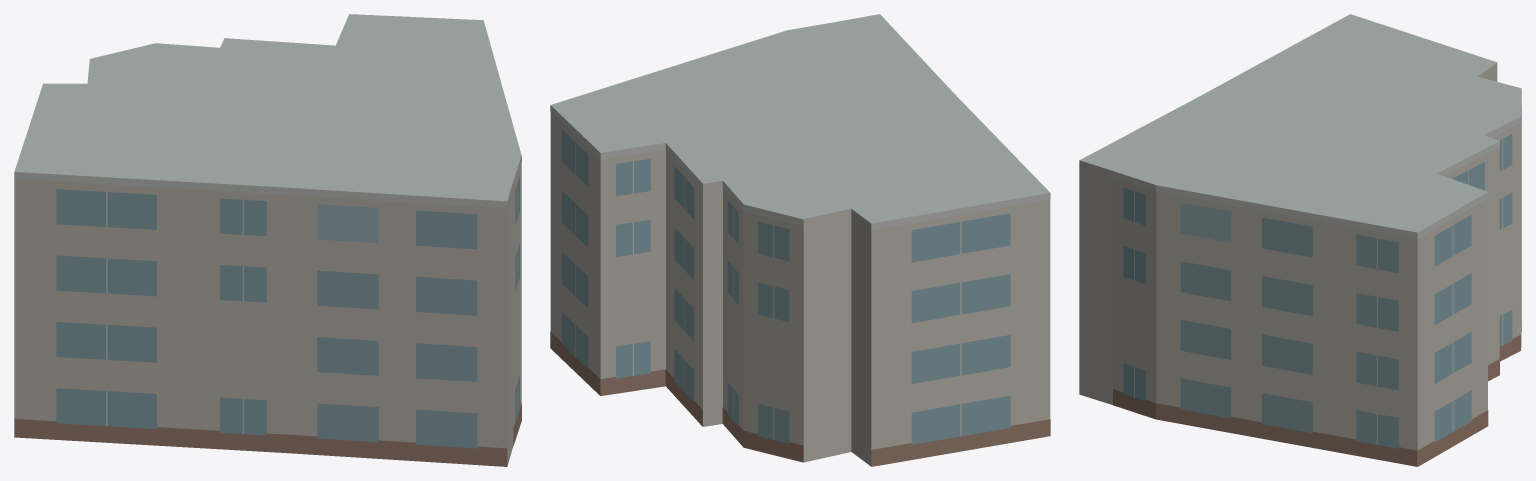
The model's file is survey-upis-32615452.glb.
3 views of the same model, side by side, from view 1: azimuth 30°, elevation 25°; view 2: azimuth 150°, elevation 25°; view 3: azimuth 270°, elevation 25° (orthographic). The views are drawn at different scales.
Visible parts, largest first — view 1: survey-upis-32615452.tmp; view 2: survey-upis-32615452.tmp; view 3: survey-upis-32615452.tmp.
Part boxes in pixels (x1,y1,x2,y2): survey-upis-32615452.tmp: (14, 14, 521, 466); survey-upis-32615452.tmp: (550, 14, 1050, 466); survey-upis-32615452.tmp: (1079, 14, 1521, 466).
Size of the model in its own units: 17.92 by 8.95 by 15.32.
